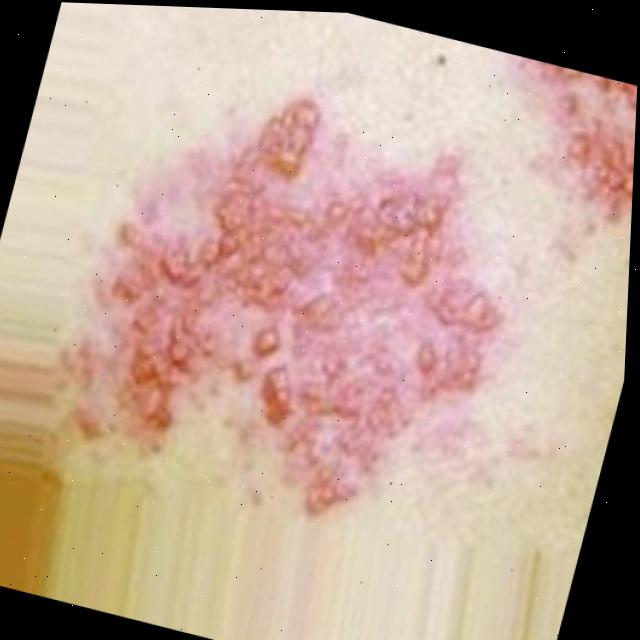Shingles: (82, 86, 535, 536), (503, 57, 638, 206)
